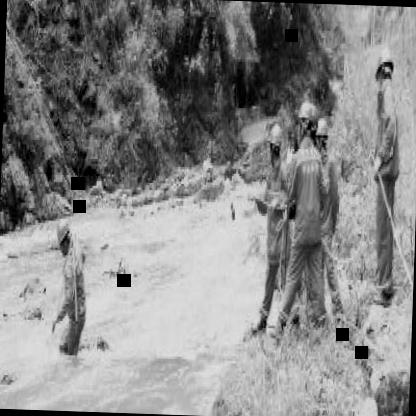helmet: (294, 96, 318, 145), (52, 212, 75, 260), (373, 47, 395, 94), (265, 114, 282, 168), (312, 111, 328, 165)
